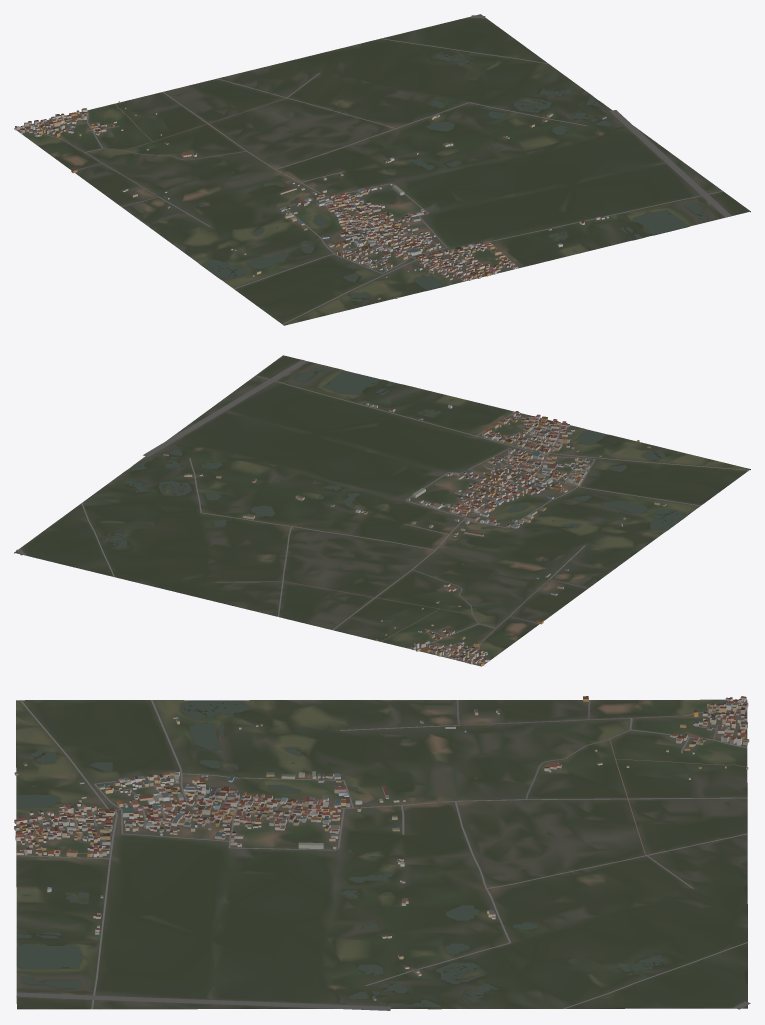
3 renders of one model, top to bottom at view 1: azimuth 30°, elevation 25°; view 2: azimuth 150°, elevation 25°; view 3: azimuth 270°, elevation 25°, orthographic. The views are drawn at different scales.
Visible parts, largest first — view 1: ground, buildings, water, roads; view 2: ground, buildings, water, roads; view 3: ground, buildings, water, roads.
Boxes of the visible parts, <box> form: ground: <box>14,14,750,325</box>; buildings: <box>15,101,608,299</box>; water: <box>198,53,708,301</box>; roads: <box>42,15,731,324</box>; ground: <box>14,355,750,666</box>; buildings: <box>163,403,666,666</box>; water: <box>107,367,685,564</box>; roads: <box>16,359,749,661</box>; ground: <box>16,699,747,1009</box>; buildings: <box>14,696,749,1000</box>; water: <box>16,700,665,1007</box>; roads: <box>16,700,750,1010</box>.
Bounding box in the file's own units: 1417 × 18.47 × 1413.
